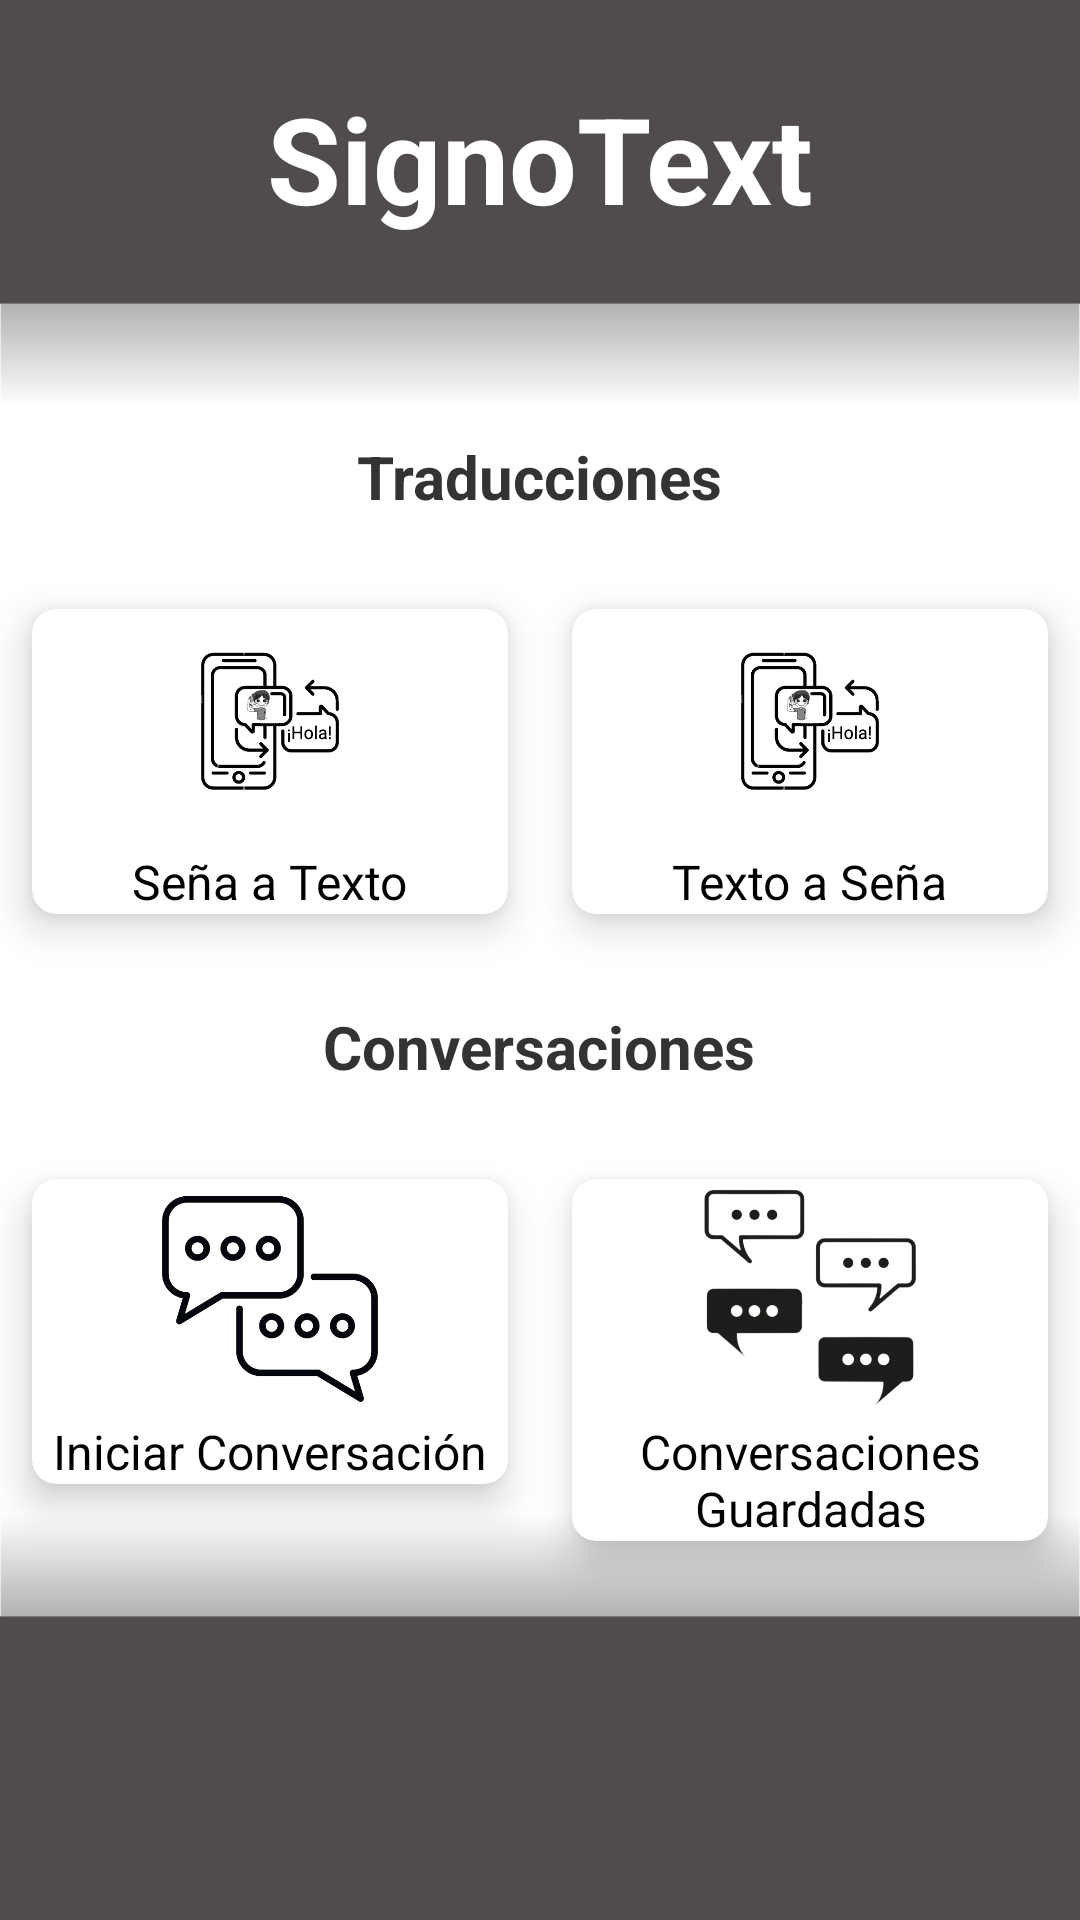

Named icons in this screenshot (1080px×1920px) and their bounding boxes, (x1, y1, x2, y2):
traducir: (201, 652, 339, 790), (741, 652, 879, 790)
